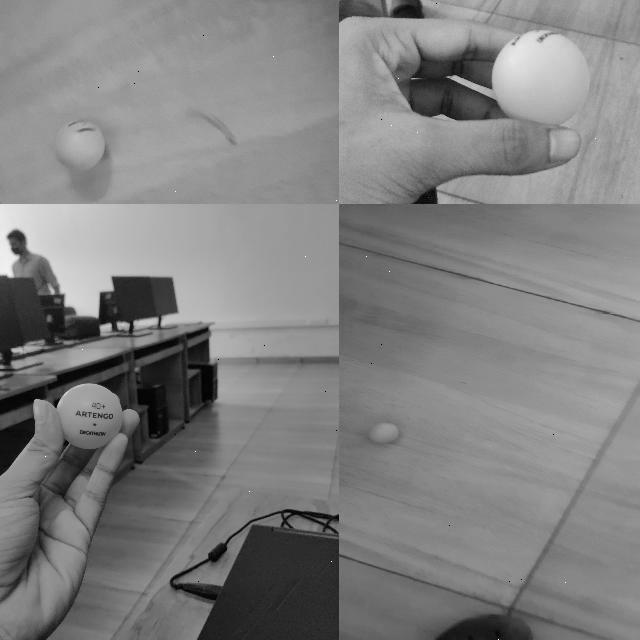ping-pong-ball: (489, 30, 586, 124), (56, 382, 122, 448), (56, 120, 104, 170), (367, 423, 395, 443)
